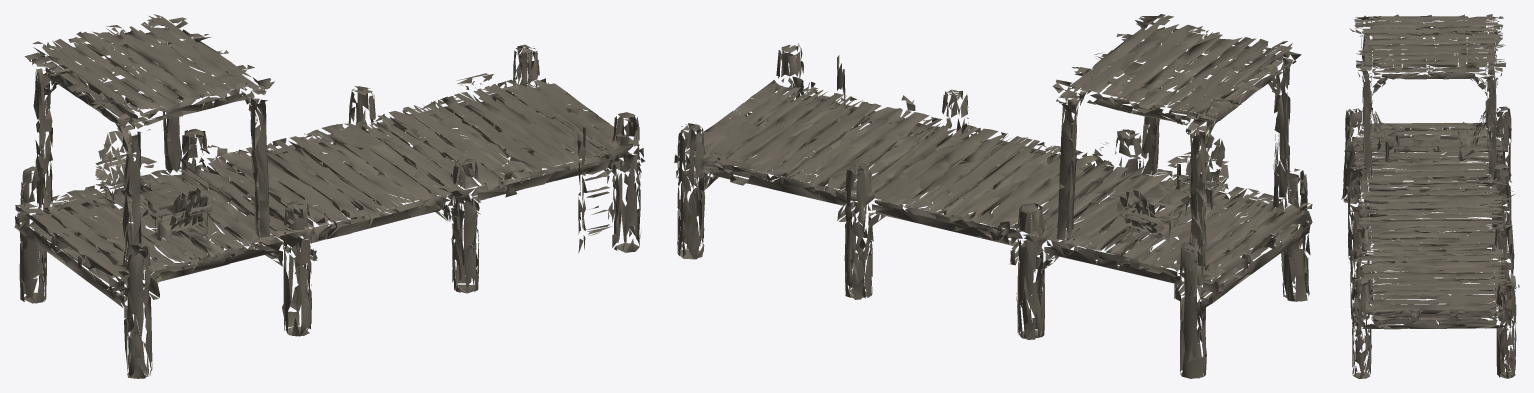
Rendered from dock.glb.
3 views of the same model, side by side, from view 1: azimuth 30°, elevation 25°; view 2: azimuth 150°, elevation 25°; view 3: azimuth 270°, elevation 25° (orthographic). The views are drawn at different scales.
Visible parts, largest first — view 1: LO.001; view 2: LO.001; view 3: LO.001.
Boxes of the visible parts, <box> form: LO.001: <box>14,14,645,378</box>; LO.001: <box>674,14,1312,378</box>; LO.001: <box>1341,14,1519,378</box>.
Bounding box in the file's own units: 1.9 × 0.8647 × 0.7541.
Materials: 1 (1 with a texture image).
